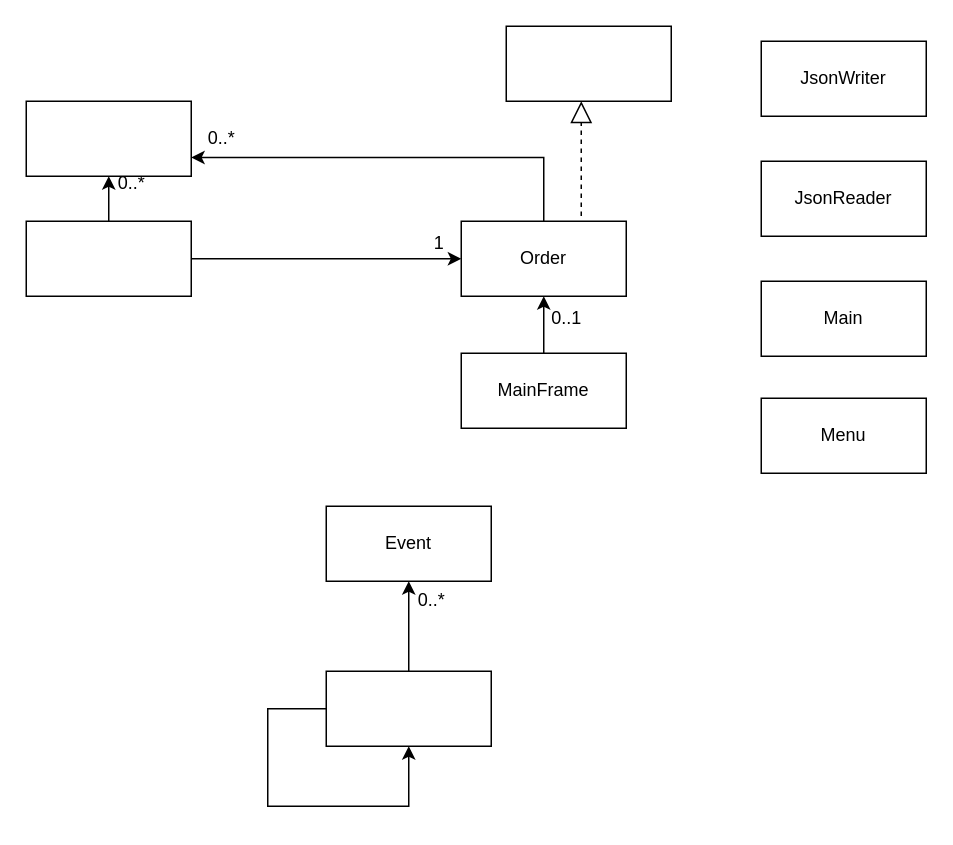
Image size: 953x845. Some labels were removed from this diagram. Each missing label, with the centre of its shape:
"Drink" belongs at point (108, 138).
"EventLog" belongs at point (408, 708).
"OrderFrame" belongs at point (108, 258).
"«interface» writable" belongs at point (588, 63).
